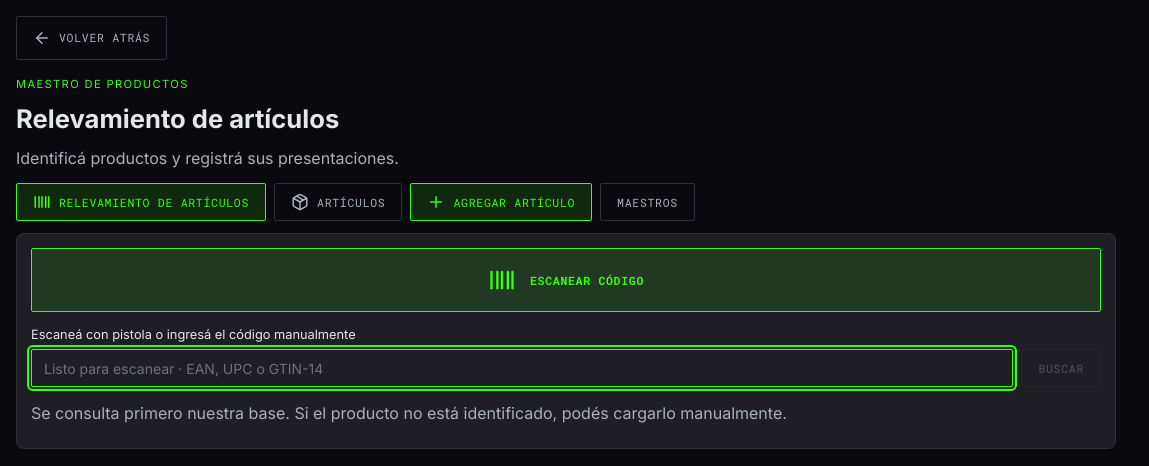
Test: flujo artículos › da al usuario de depósito el relevamiento y el maestro completo
Expected: the button "ESCANEAR CÓDIGO" is shown, x1=31 y1=248 x2=1101 y2=312
Expected: the button "Volver atrás" is shown, x1=16 y1=16 x2=167 y2=60
Click the button "Artículos": x=338, y=202 x1=274 y1=183 x2=402 y2=221
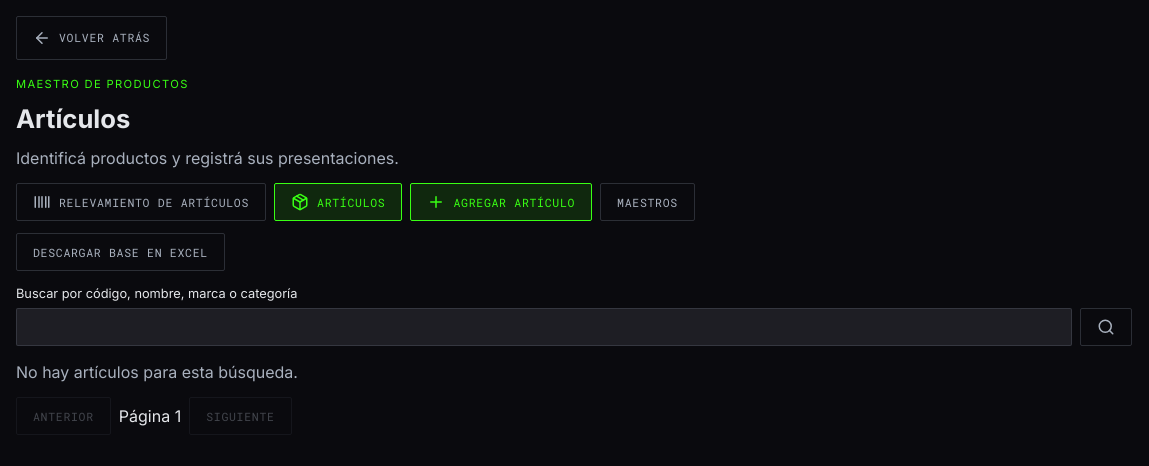
Expected: the button "Descargar base en Excel" is shown, x1=16 y1=233 x2=225 y2=271
